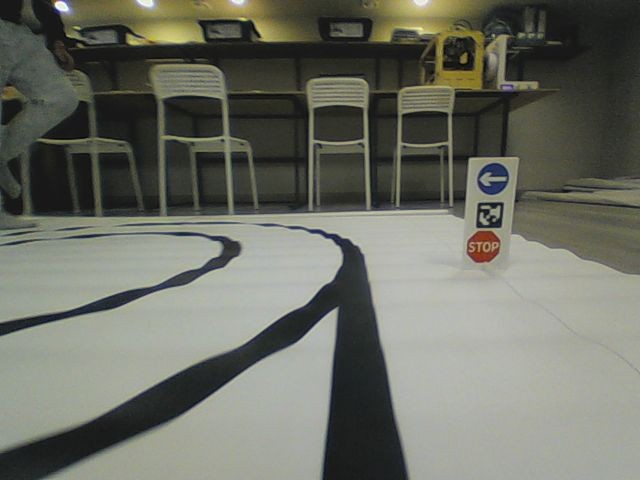Stop: (465, 229, 501, 264)
